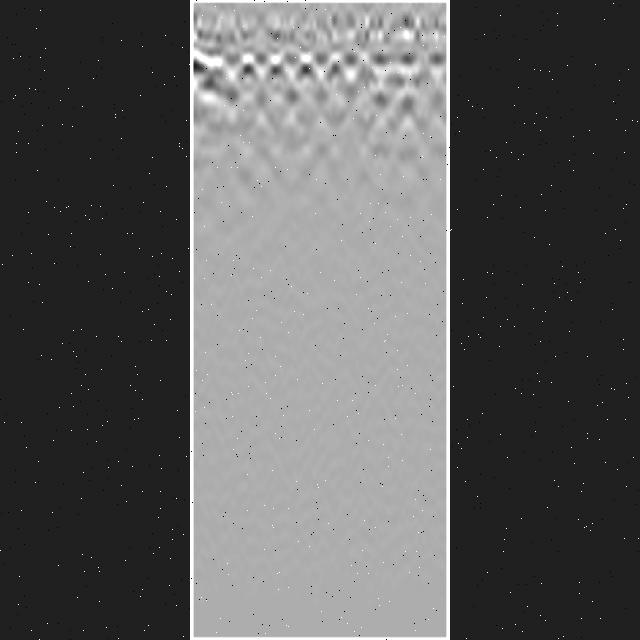hyperbola: (340, 52, 384, 88), (310, 53, 358, 85), (198, 52, 235, 90), (226, 52, 268, 84), (260, 51, 294, 87), (288, 56, 326, 86)
